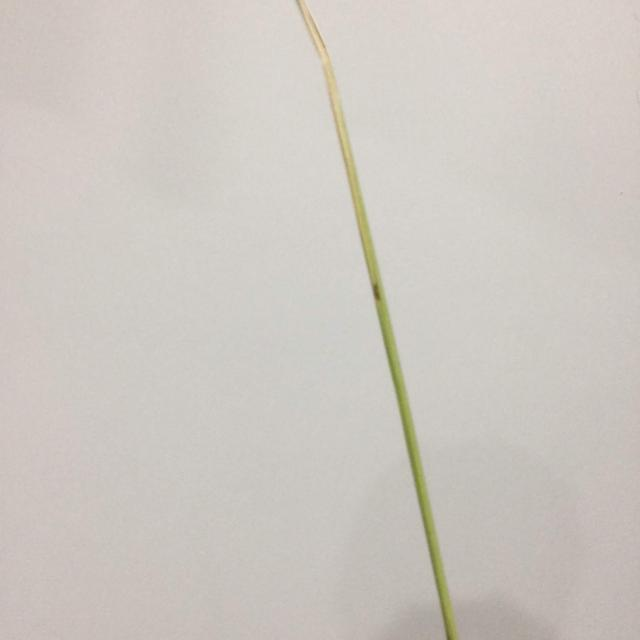brownspots: (370, 278, 384, 306)
